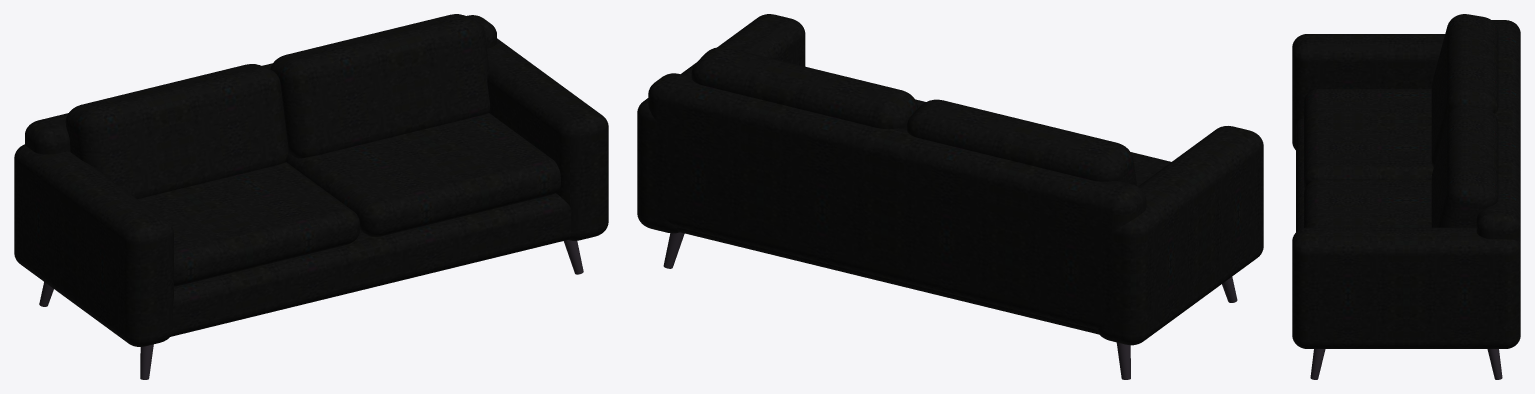
File: mood-5.glb
The picture shows the model from 3 angles, left to right: view 1: azimuth 30°, elevation 25°; view 2: azimuth 150°, elevation 25°; view 3: azimuth 270°, elevation 25°; orthographic projection. The views are drawn at different scales.
Visible parts, largest first — view 1: Cube; view 2: Cube; view 3: Cube.
Boxes of the visible parts, x1=… form: Cube: x1=14, y1=14, x2=608, y2=379; Cube: x1=637, y1=14, x2=1263, y2=379; Cube: x1=1292, y1=14, x2=1520, y2=379.
Bounding box in the file's own units: 2 × 0.8 × 0.9.
2 materials, 1 textured.
